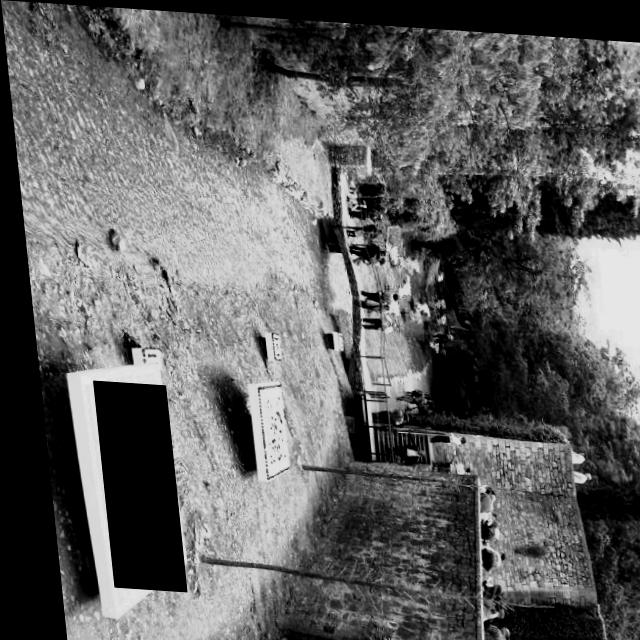qr_code: (84, 380, 174, 591)
